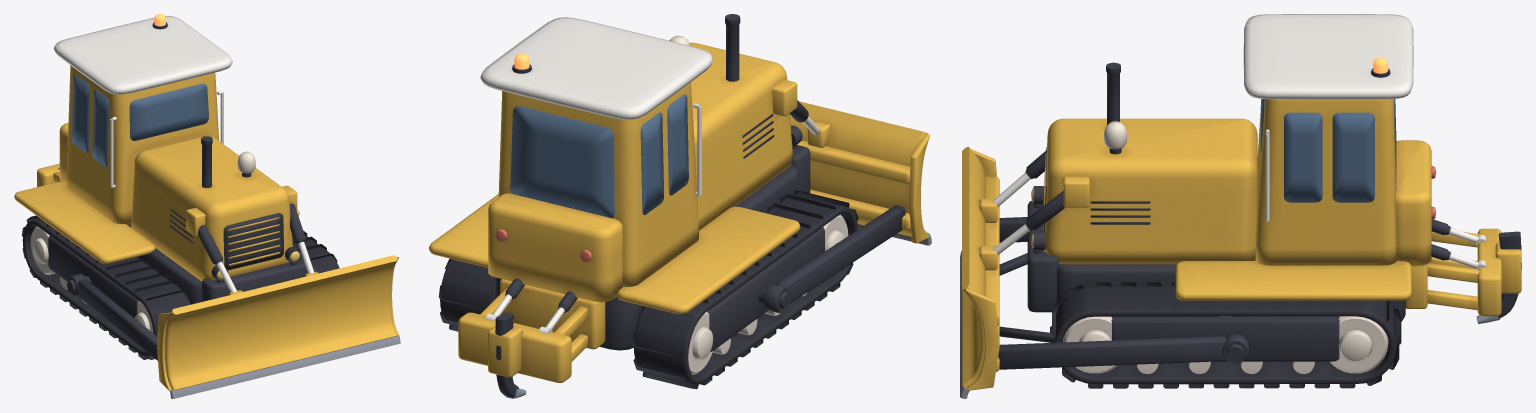
File: bulldozer.glb
3 views of the same model, side by side, from view 1: azimuth 30°, elevation 25°; view 2: azimuth 150°, elevation 25°; view 3: azimuth 270°, elevation 25° (orthographic). The views are drawn at different scales.
Visible parts, largest first — view 1: bulldozer_body, bulldozer_blade, bulldozer_windows; view 2: bulldozer_body, bulldozer_blade, bulldozer_windows; view 3: bulldozer_body, bulldozer_blade, bulldozer_windows.
Boxes of the visible parts, left/top/right/bottom form: bulldozer_body: left=14, top=15, right=339, bottom=359; bulldozer_blade: left=68, top=242, right=400, bottom=398; bulldozer_windows: left=72, top=74, right=208, bottom=167; bulldozer_body: left=429, top=14, right=858, bottom=398; bulldozer_blade: left=763, top=101, right=931, bottom=312; bulldozer_windows: left=510, top=94, right=688, bottom=218; bulldozer_body: left=1025, top=14, right=1521, bottom=388; bulldozer_blade: left=960, top=146, right=1248, bottom=398; bulldozer_windows: left=1260, top=99, right=1396, bottom=202.
Size of the model in its own units: 3.4 by 3.25 by 5.62.
5 materials, 2 textured.
